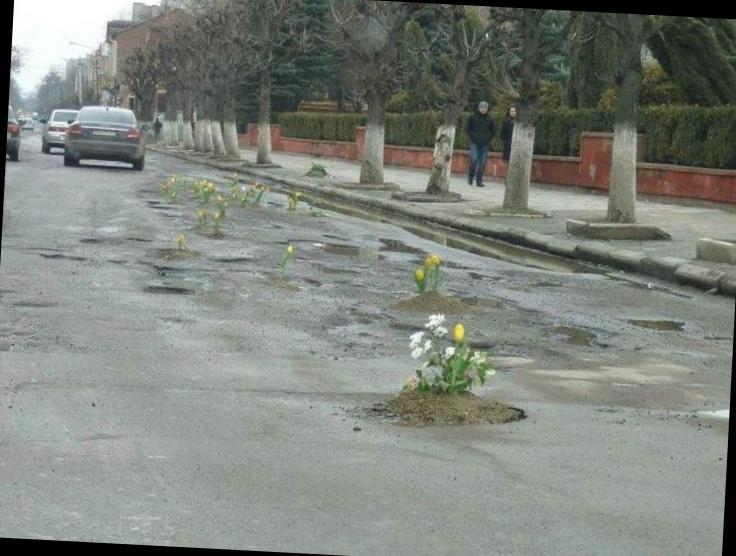pothole: (340, 360, 546, 448), (445, 281, 540, 329), (292, 231, 394, 269), (537, 314, 614, 362), (605, 305, 693, 340), (129, 274, 209, 308), (145, 240, 221, 270), (139, 190, 191, 228), (10, 284, 62, 322), (34, 246, 87, 274), (208, 247, 269, 271), (119, 228, 156, 258), (252, 195, 290, 217), (104, 252, 134, 276), (72, 228, 108, 247)
